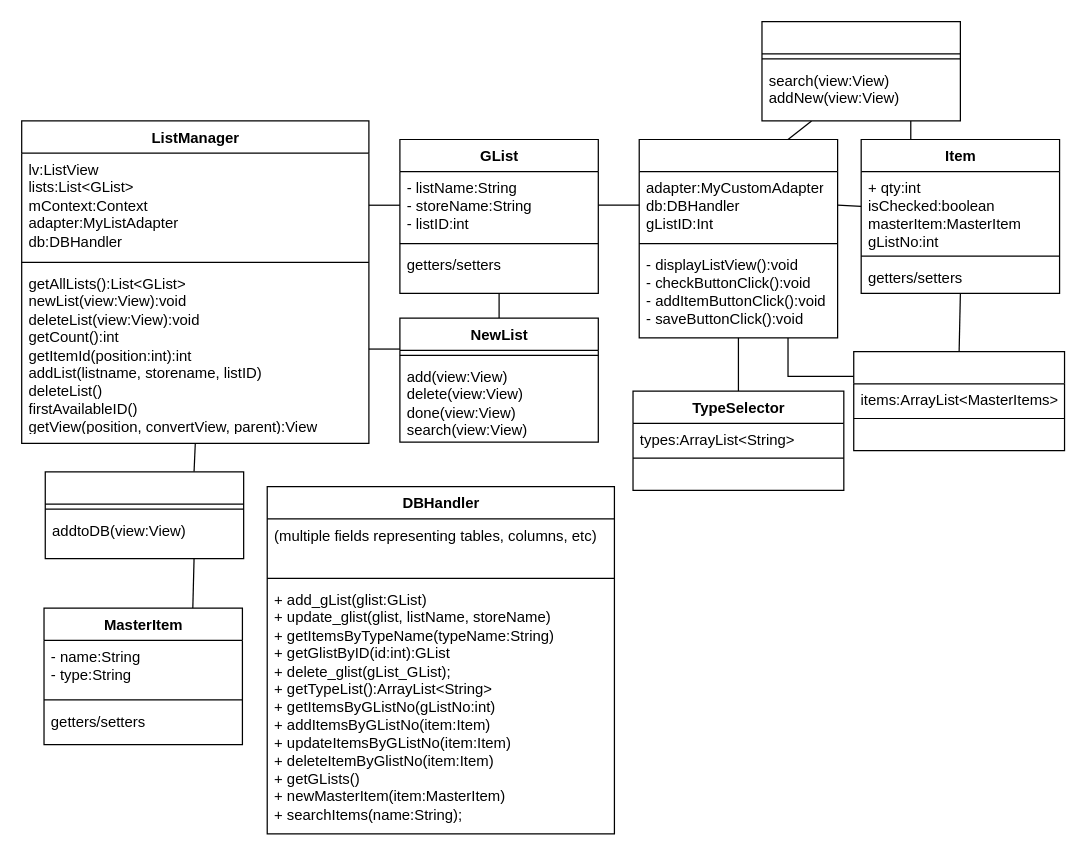
The diagram is 1086 pixels wide and 859 high, and some of its shapes have lost their labels. The shapes that lost their labels are listed below. From the top down, each one's box as (x1, y1, x2, y2) in pixels, then its label:
(761, 20, 960, 121): SearchItem
(638, 138, 838, 338): GroceryList
(852, 350, 1065, 451): ItemSelector
(44, 471, 244, 559): NewMasterItem
